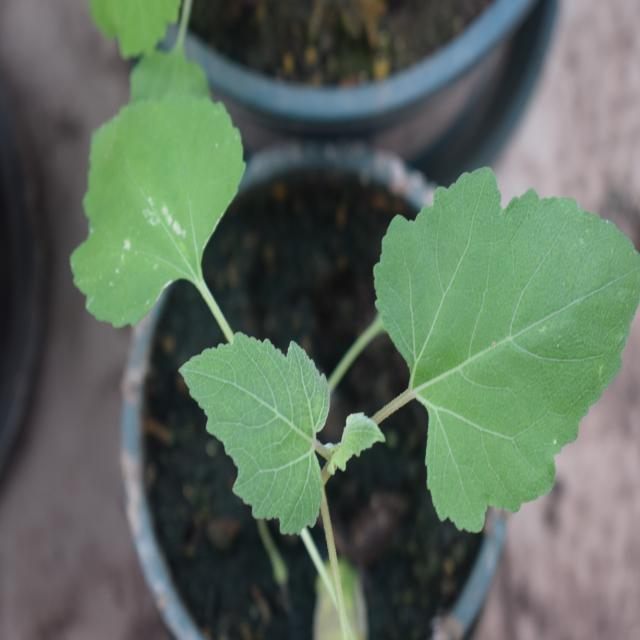cocklebur: (67, 78, 608, 530)
